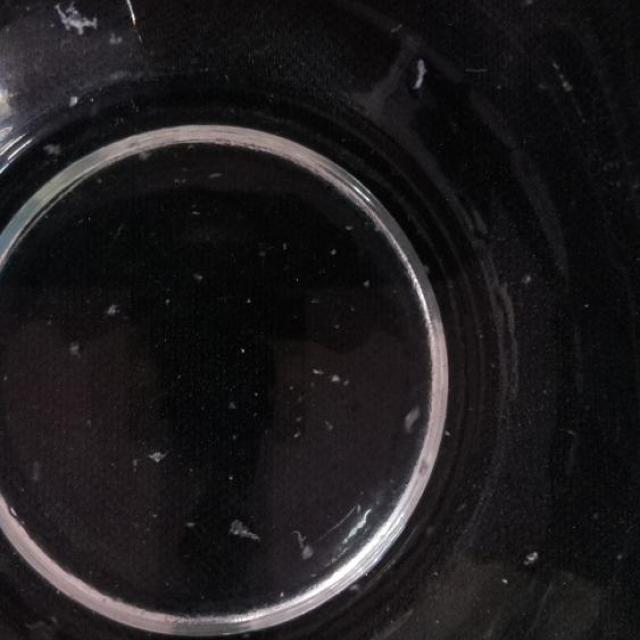fiber: (54, 4, 102, 36), (400, 400, 430, 433), (229, 517, 262, 547), (311, 367, 350, 388), (294, 528, 316, 564), (412, 60, 429, 97), (524, 542, 547, 568), (147, 444, 169, 467), (107, 28, 128, 49), (102, 302, 125, 319), (44, 140, 64, 158), (519, 270, 539, 288), (206, 166, 226, 184), (182, 516, 200, 532), (222, 469, 238, 487), (324, 415, 338, 434), (66, 340, 82, 356), (67, 92, 82, 108), (193, 272, 210, 286), (226, 395, 239, 412), (140, 147, 155, 160), (359, 274, 372, 288), (503, 574, 515, 588), (344, 224, 358, 236), (445, 424, 452, 441), (239, 346, 251, 355), (243, 296, 253, 304)
